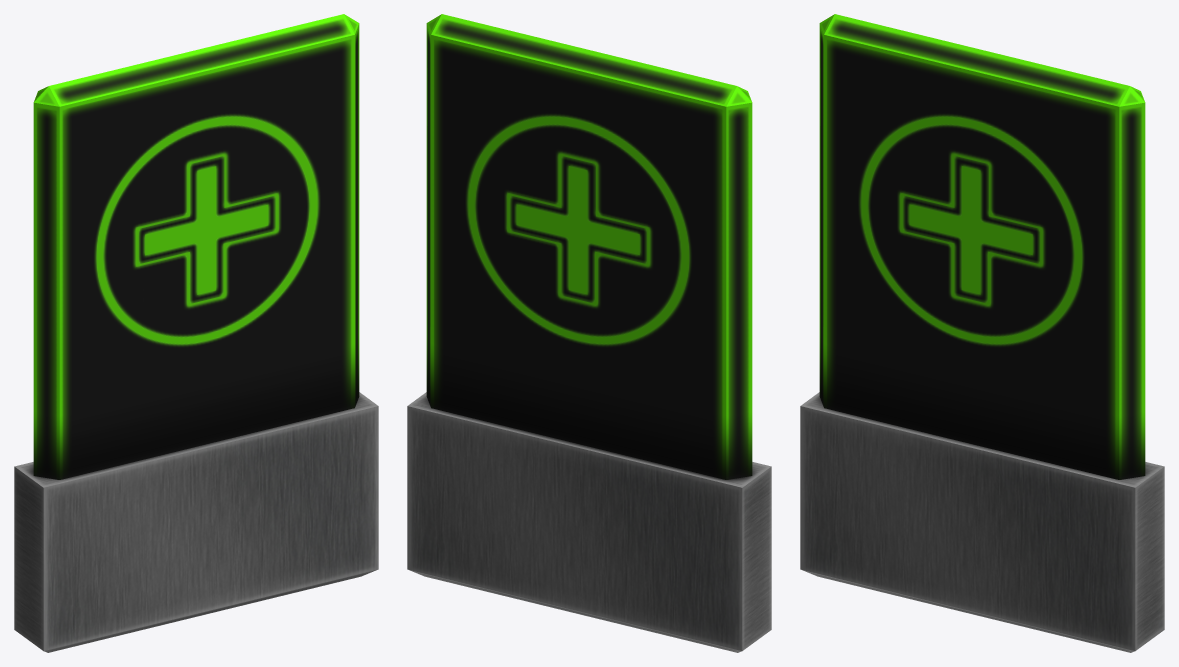
The model's file is powerUpHeal.gltf.
The picture shows the model from 3 angles, left to right: view 1: azimuth 30°, elevation 25°; view 2: azimuth 150°, elevation 25°; view 3: azimuth 330°, elevation 25°; orthographic projection.
Parts seen in each view (by area): view 1: Card02; view 2: Card02; view 3: Card02.
Part boxes in pixels (bbox=[...]): Card02: bbox=[14, 14, 378, 652]; Card02: bbox=[407, 14, 771, 652]; Card02: bbox=[800, 14, 1164, 652].
Size of the model in its own units: 87.2 by 139 by 13.14.
Materials: 1 (1 with a texture image).
